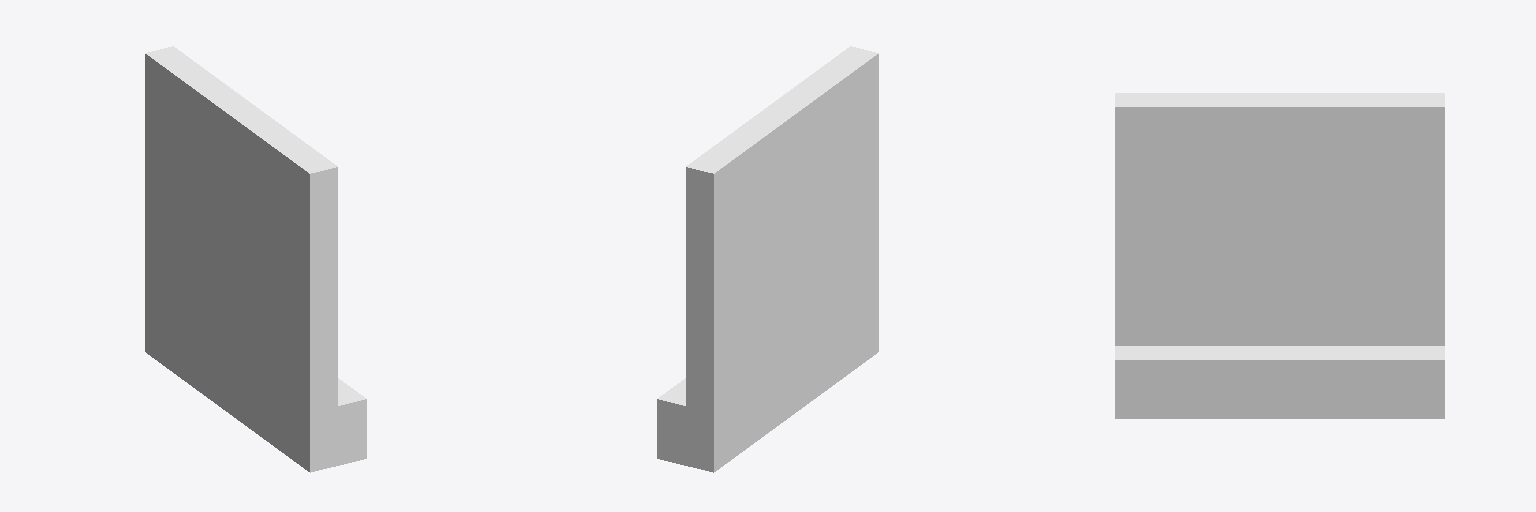
Rendered from SpaceBit.obj.
3 views of the same model, side by side, from view 1: azimuth 30°, elevation 25°; view 2: azimuth 150°, elevation 25°; view 3: azimuth 270°, elevation 25° (orthographic).
Bounding box in the file's own units: 10 × 50 × 50.